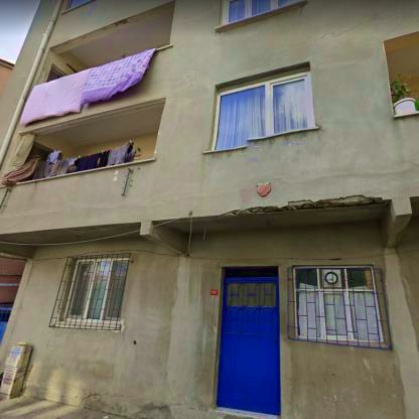door: (220, 280, 279, 413)
